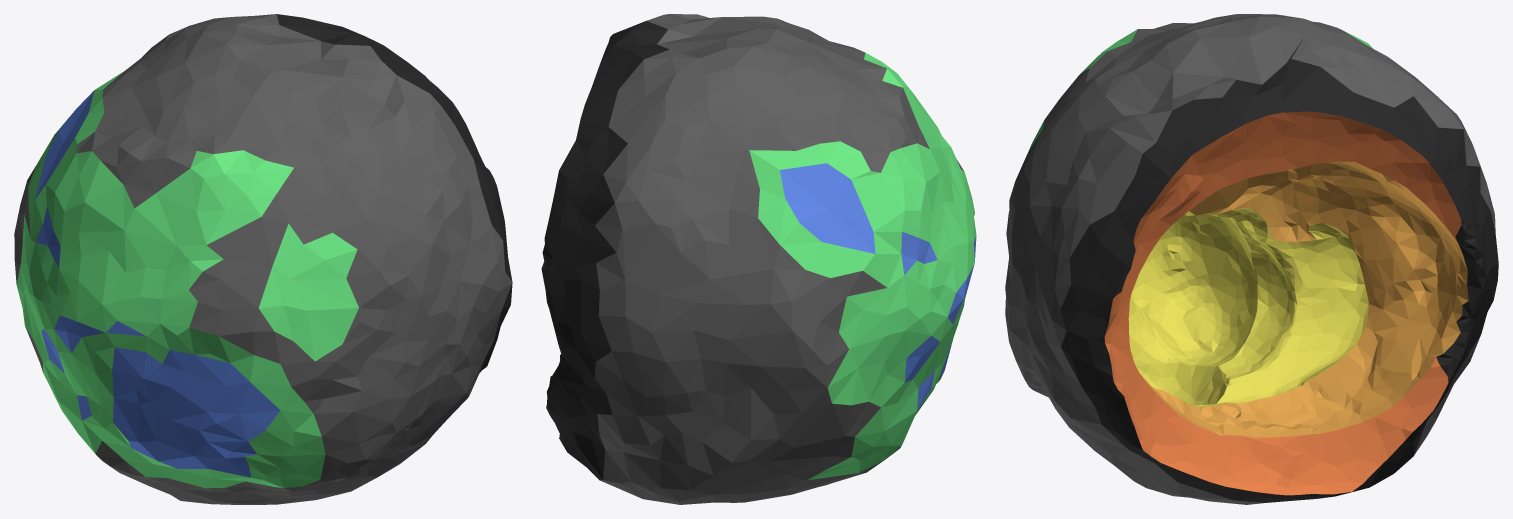
Rendered from BrokenPlanet.fbx.
The picture shows the model from 3 angles, left to right: view 1: azimuth 30°, elevation 25°; view 2: azimuth 150°, elevation 25°; view 3: azimuth 270°, elevation 25°; orthographic projection.
Parts seen in each view (by area): view 1: Sphere; view 2: Sphere; view 3: Sphere.
Boxes of the visible parts, <box> form: Sphere: <box>14,14,512,504</box>; Sphere: <box>541,14,976,504</box>; Sphere: <box>1005,14,1498,504</box>.
Size of the model in its own units: 11607 by 12461 by 12345.
